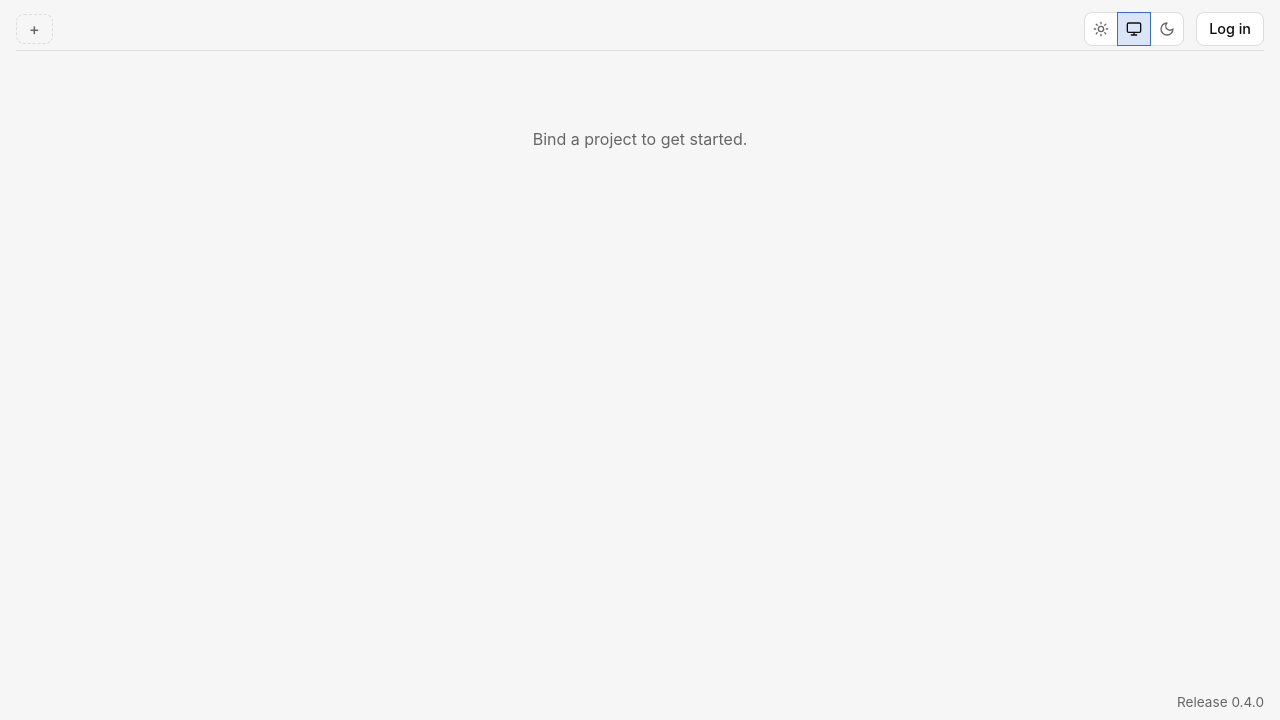
Test case: App › logged out, the bind popup offers only URL binding
Click the button named "Bind a project" at x=34, y=29, box [16,14,53,44]
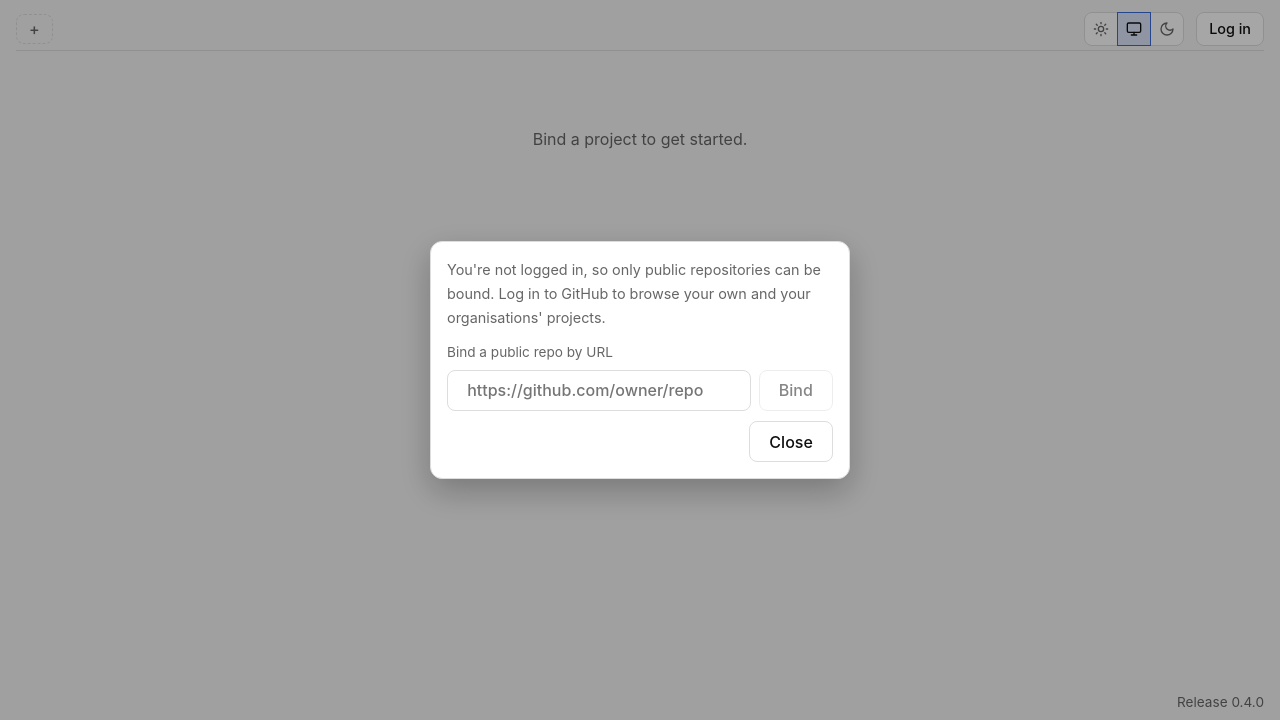
Expected: the field labelled "Bind a public repo by URL" is shown, [447,370,751,411]
